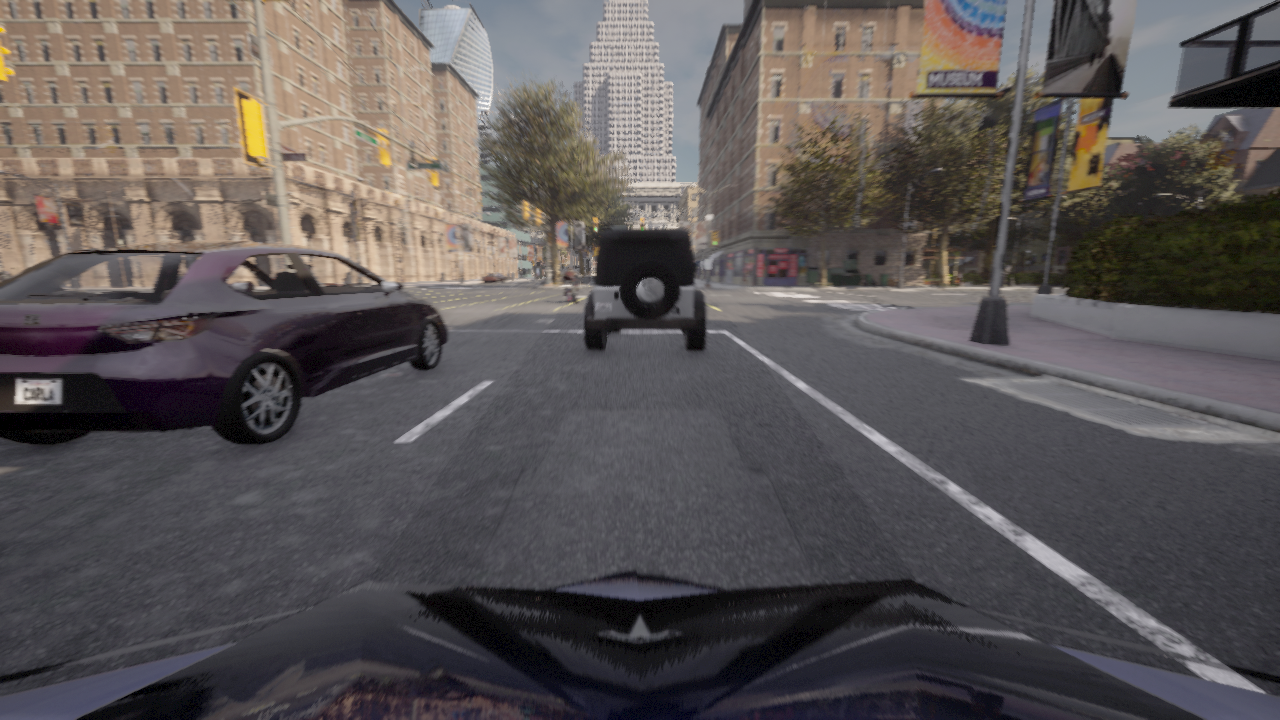cyclist: (0, 569, 1279, 719), (0, 241, 448, 444), (583, 228, 706, 350), (562, 274, 581, 302), (482, 273, 506, 283), (948, 274, 951, 281)
